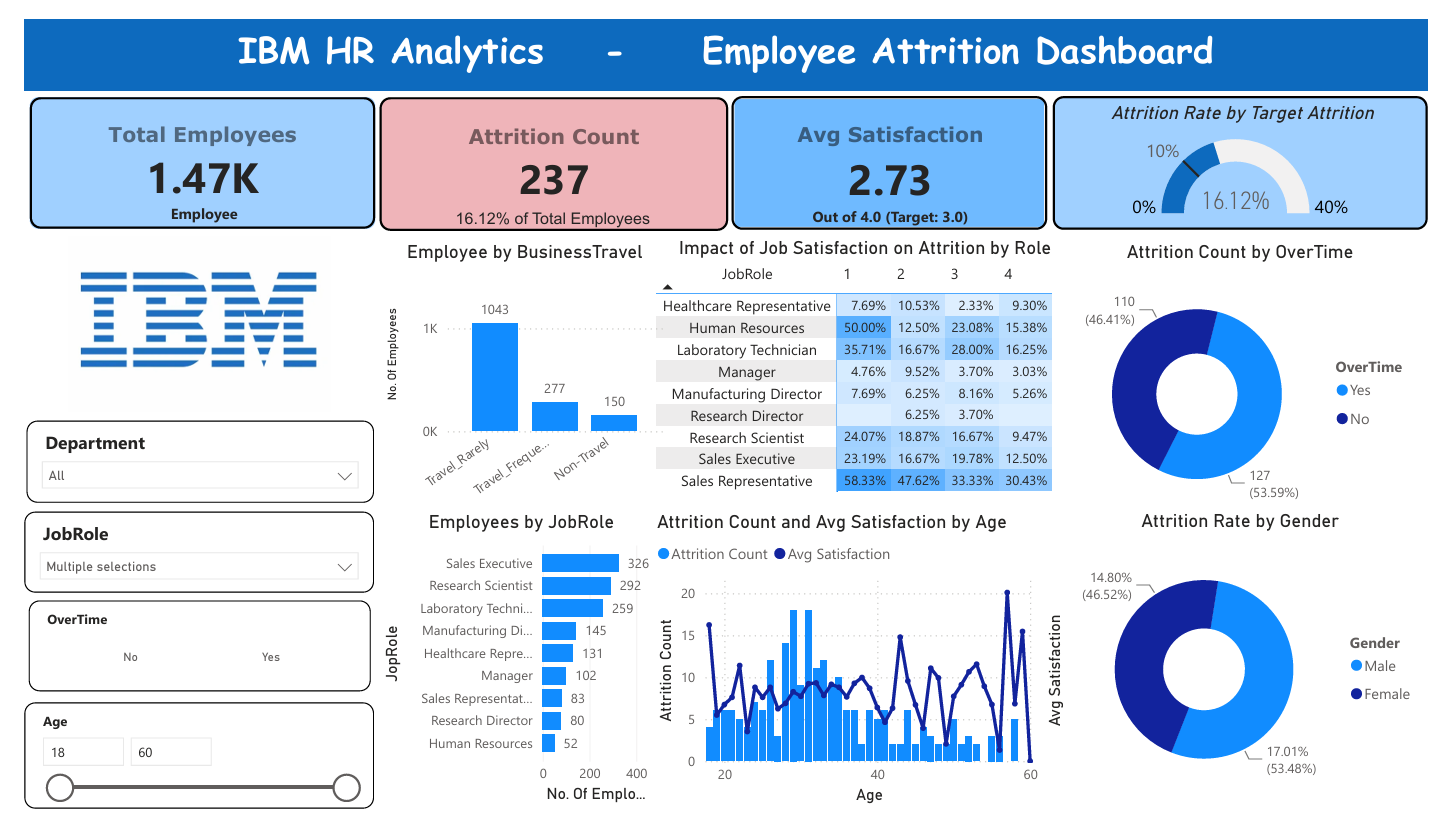

The page's visual inventory and layout, read from the dashboard file:
{"tool":"powerbi","page":{"name":"Page 1","canvas":[1280,720],"ordinal":0},"visuals":[{"type":"cardVisual","fields":{"Data":["IBM_HR_Analytics_Dataset.Total Employees"]},"box":[0,65.7,325,130.7],"z":0},{"type":"slicer","fields":{"Values":["IBM_HR_Analytics_Dataset.Department"]},"box":[1.7,365.8,317.5,75],"z":1000},{"type":"slicer","fields":{"Values":["IBM_HR_Analytics_Dataset.JobRole"]},"box":[0,448.8,318.8,73.8],"z":2000},{"type":"cardVisual","fields":{"Data":["IBM_HR_Analytics_Dataset.Avg Satisfaction"]},"box":[640,65,298.8,132.5],"z":3000},{"type":"slicer","fields":{"Values":["IBM_HR_Analytics_Dataset.Age"]},"box":[0,622.5,318.8,97.5],"z":4000},{"type":"pivotTable","title":"Impact of Job Satisfaction on Attrition by Role","fields":{"Columns":["IBM_HR_Analytics_Dataset.JobSatisfaction"],"Rows":["IBM_HR_Analytics_Dataset.JobRole"],"Values":["IBM_HR_Analytics_Dataset.Attrition Rate"]},"box":[571.7,198.3,390,276.7],"z":5000},{"type":"slicer","title":"Over Time","fields":{"Values":["IBM_HR_Analytics_Dataset.OverTime"]},"box":[3.8,530,312.5,82.5],"z":6000},{"type":"gauge","title":"Attrition Rate by Target Attrition","fields":{"Y":["IBM_HR_Analytics_Dataset.Attrition Rate"],"TargetValue":["IBM_HR_Analytics_Dataset.Target Attrition"]},"box":[938.4,70,341.2,122.4],"z":7000},{"type":"actionButton","box":[40,0,200.9,50],"z":8000},{"type":"clusteredBarChart","title":"Employees by JobRole","fields":{"Category":["IBM_HR_Analytics_Dataset.JobRole"],"Y":["IBM_HR_Analytics_Dataset.CountEmployee"]},"box":[321.7,448.3,263.3,271.7],"z":9000},{"type":"donutChart","fields":{"Category":["IBM_HR_Analytics_Dataset.OverTime"],"Y":["IBM_HR_Analytics_Dataset.Attrition Count"]},"box":[938.3,201.7,341.7,261.7],"z":10000},{"type":"cardVisual","fields":{"Data":["IBM_HR_Analytics_Dataset.Attrition Count"]},"box":[318.8,65.6,328,132.8],"z":11000},{"type":"donutChart","fields":{"Y":["IBM_HR_Analytics_Dataset.Attrition Rate"],"Category":["IBM_HR_Analytics_Dataset.Gender"]},"box":[938.3,446.7,341.7,273.3],"z":12000},{"type":"clusteredColumnChart","title":"Employee by BusinessTravel","fields":{"Category":["IBM_HR_Analytics_Dataset.BusinessTravel"],"Y":["CountNonNull(IBM_HR_Analytics_Dataset.EmployeeNumber)"]},"box":[325,201.7,263.3,248.3],"z":13000},{"type":"textbox","box":[0,0,1280,65.4],"z":14000},{"type":"textbox","box":[128.3,163.3,71.7,31.7],"z":15000},{"type":"cardVisual","fields":{"Data":["IBM_HR_Analytics_Dataset.Dynamic Subtitle"]},"box":[333.3,148.3,298.3,65],"z":16000},{"type":"lineClusteredColumnComboChart","fields":{"Category":["IBM_HR_Analytics_Dataset.Age"],"Y":["IBM_HR_Analytics_Dataset.Attrition Count"],"Y2":["IBM_HR_Analytics_Dataset.Avg Satisfaction"]},"box":[571.7,448.3,380,271.7],"z":17000},{"type":"textbox","box":[711.4,165.7,157.1,31.4],"z":18000},{"type":"image","box":[0,197.8,318.9,160],"z":19000}]}

Visuals, with their boxes in screenshot pixels (x1, y1, x2, y2), scaled from the page's 1280x720 canvas onto the 1447x825 screenshot:
cardVisual - IBM_HR_Analytics_Dataset.Total Employees: l=0, t=75, r=367, b=225
slicer - IBM_HR_Analytics_Dataset.Department: l=2, t=419, r=361, b=505
slicer - IBM_HR_Analytics_Dataset.JobRole: l=0, t=514, r=360, b=599
cardVisual - IBM_HR_Analytics_Dataset.Avg Satisfaction: l=724, t=74, r=1061, b=226
slicer - IBM_HR_Analytics_Dataset.Age: l=0, t=713, r=360, b=824
"Impact of Job Satisfaction on Attrition by Role" pivotTable: l=646, t=227, r=1087, b=544
"Over Time" slicer: l=4, t=607, r=358, b=702
"Attrition Rate by Target Attrition" gauge: l=1061, t=80, r=1446, b=220
actionButton: l=45, t=0, r=272, b=57
"Employees by JobRole" clusteredBarChart: l=364, t=514, r=661, b=824
donutChart - IBM_HR_Analytics_Dataset.OverTime x IBM_HR_Analytics_Dataset.Attrition Count: l=1061, t=231, r=1446, b=531
cardVisual - IBM_HR_Analytics_Dataset.Attrition Count: l=360, t=75, r=731, b=227
donutChart - IBM_HR_Analytics_Dataset.Attrition Rate x IBM_HR_Analytics_Dataset.Gender: l=1061, t=512, r=1446, b=824
"Employee by BusinessTravel" clusteredColumnChart: l=367, t=231, r=665, b=516
textbox: l=0, t=0, r=1446, b=75
textbox: l=145, t=187, r=226, b=223
cardVisual - IBM_HR_Analytics_Dataset.Dynamic Subtitle: l=377, t=170, r=714, b=244
lineClusteredColumnComboChart - IBM_HR_Analytics_Dataset.Age x IBM_HR_Analytics_Dataset.Attrition Count: l=646, t=514, r=1076, b=824
textbox: l=804, t=190, r=982, b=226
image: l=0, t=227, r=361, b=410
